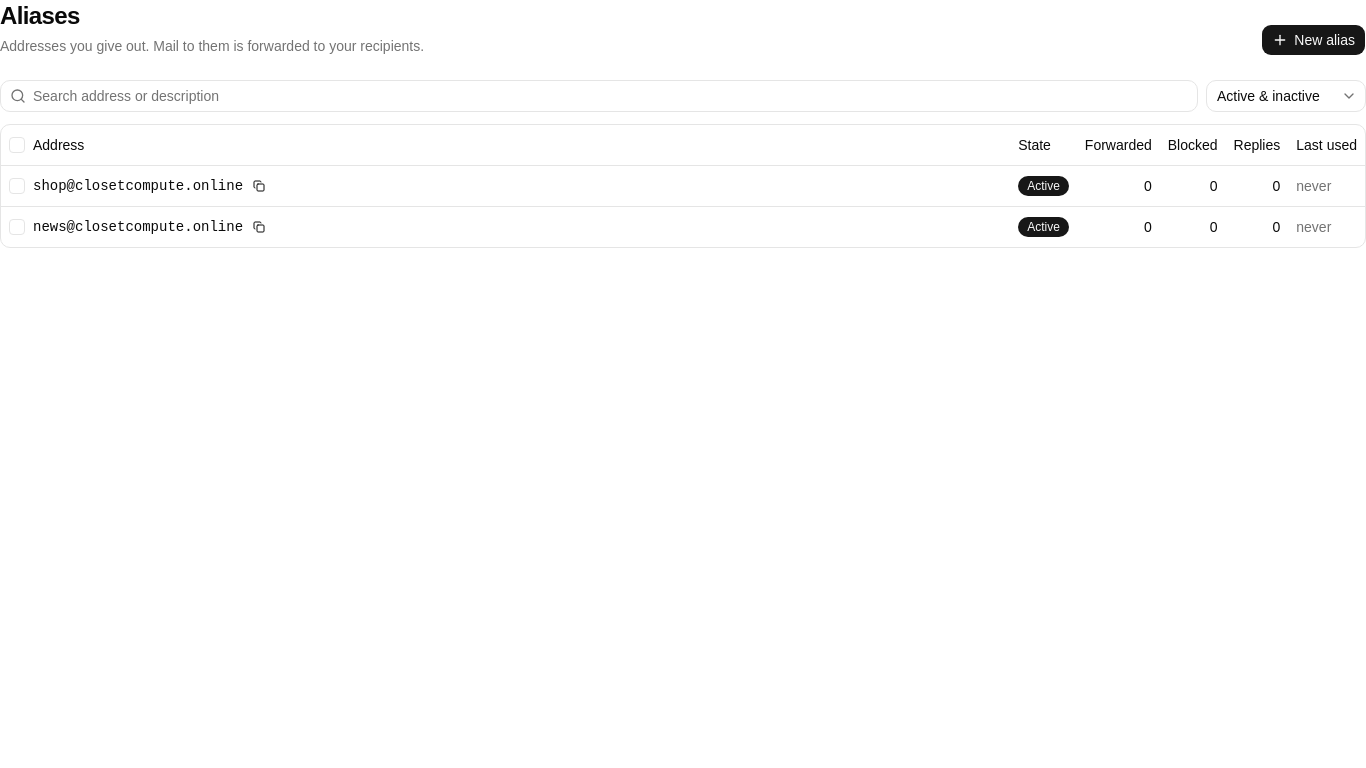
Test case: AliasesPage › creates a random alias in the user's style and opens it
The image size is (1366, 768).
Step 1. Click the button "New alias" → (1314, 40), box [1261,24,1365,56]
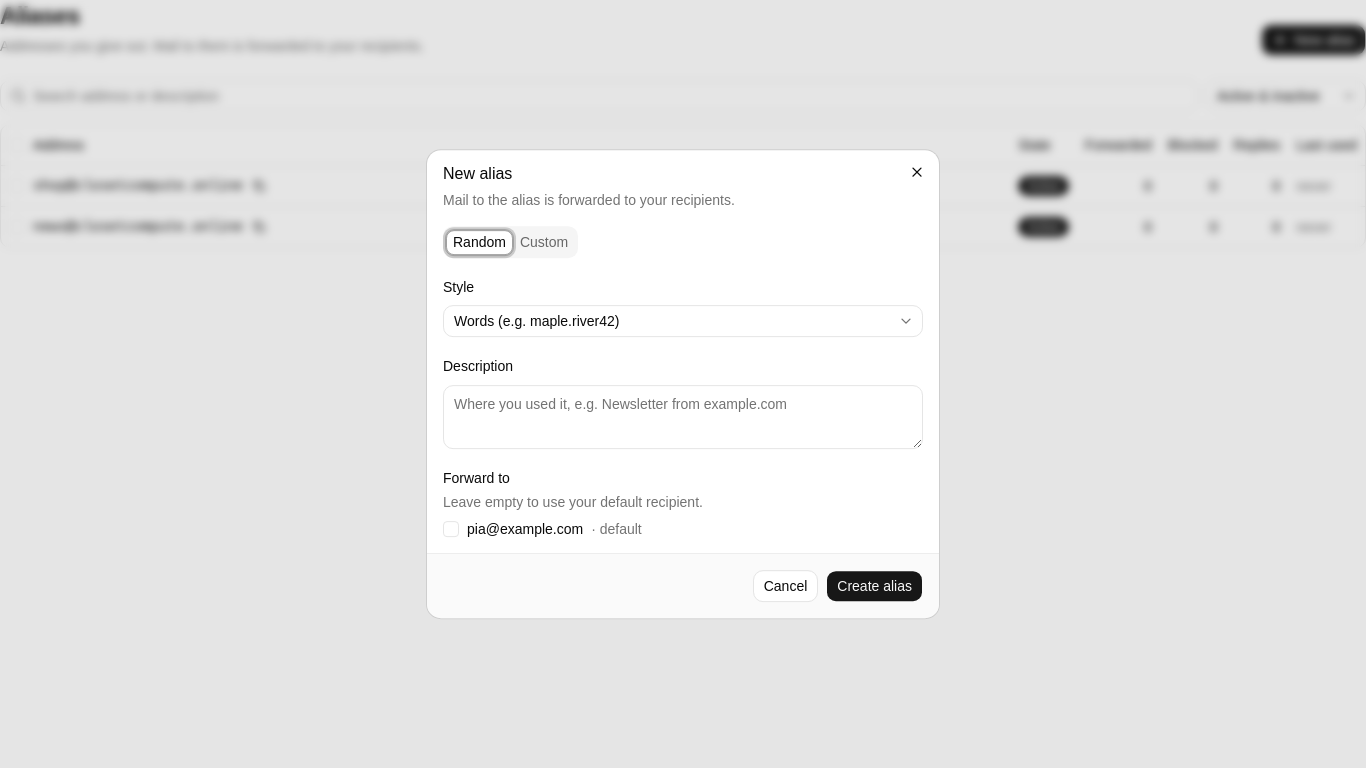
Step 2. Type "Newsletter" into the text box labelled "Description" → (683, 417), box [443,385,923,449]
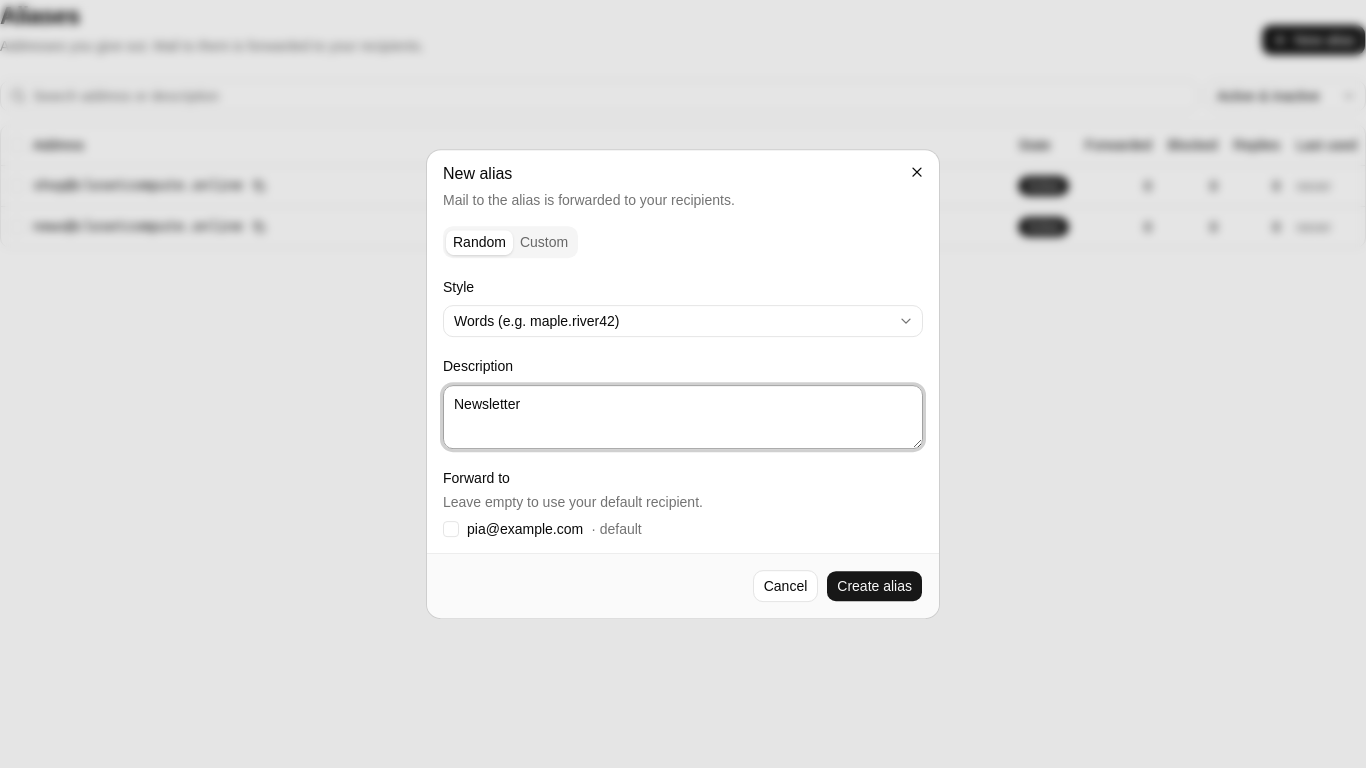
Step 3. Click the button "Create alias" → (875, 586), box [826,570,923,602]
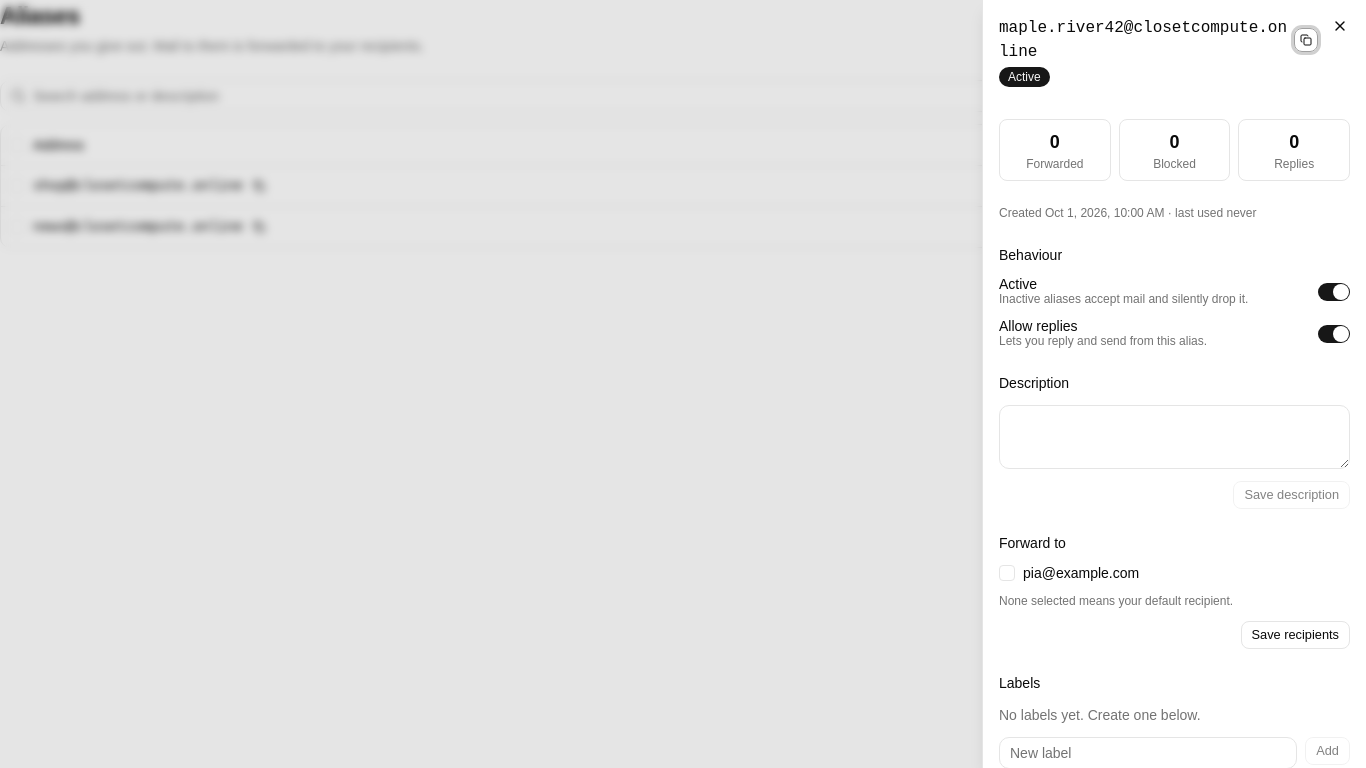
Result: the heading "maple.river42@closetcompute.online" is shown at [999,16,1350,64]
